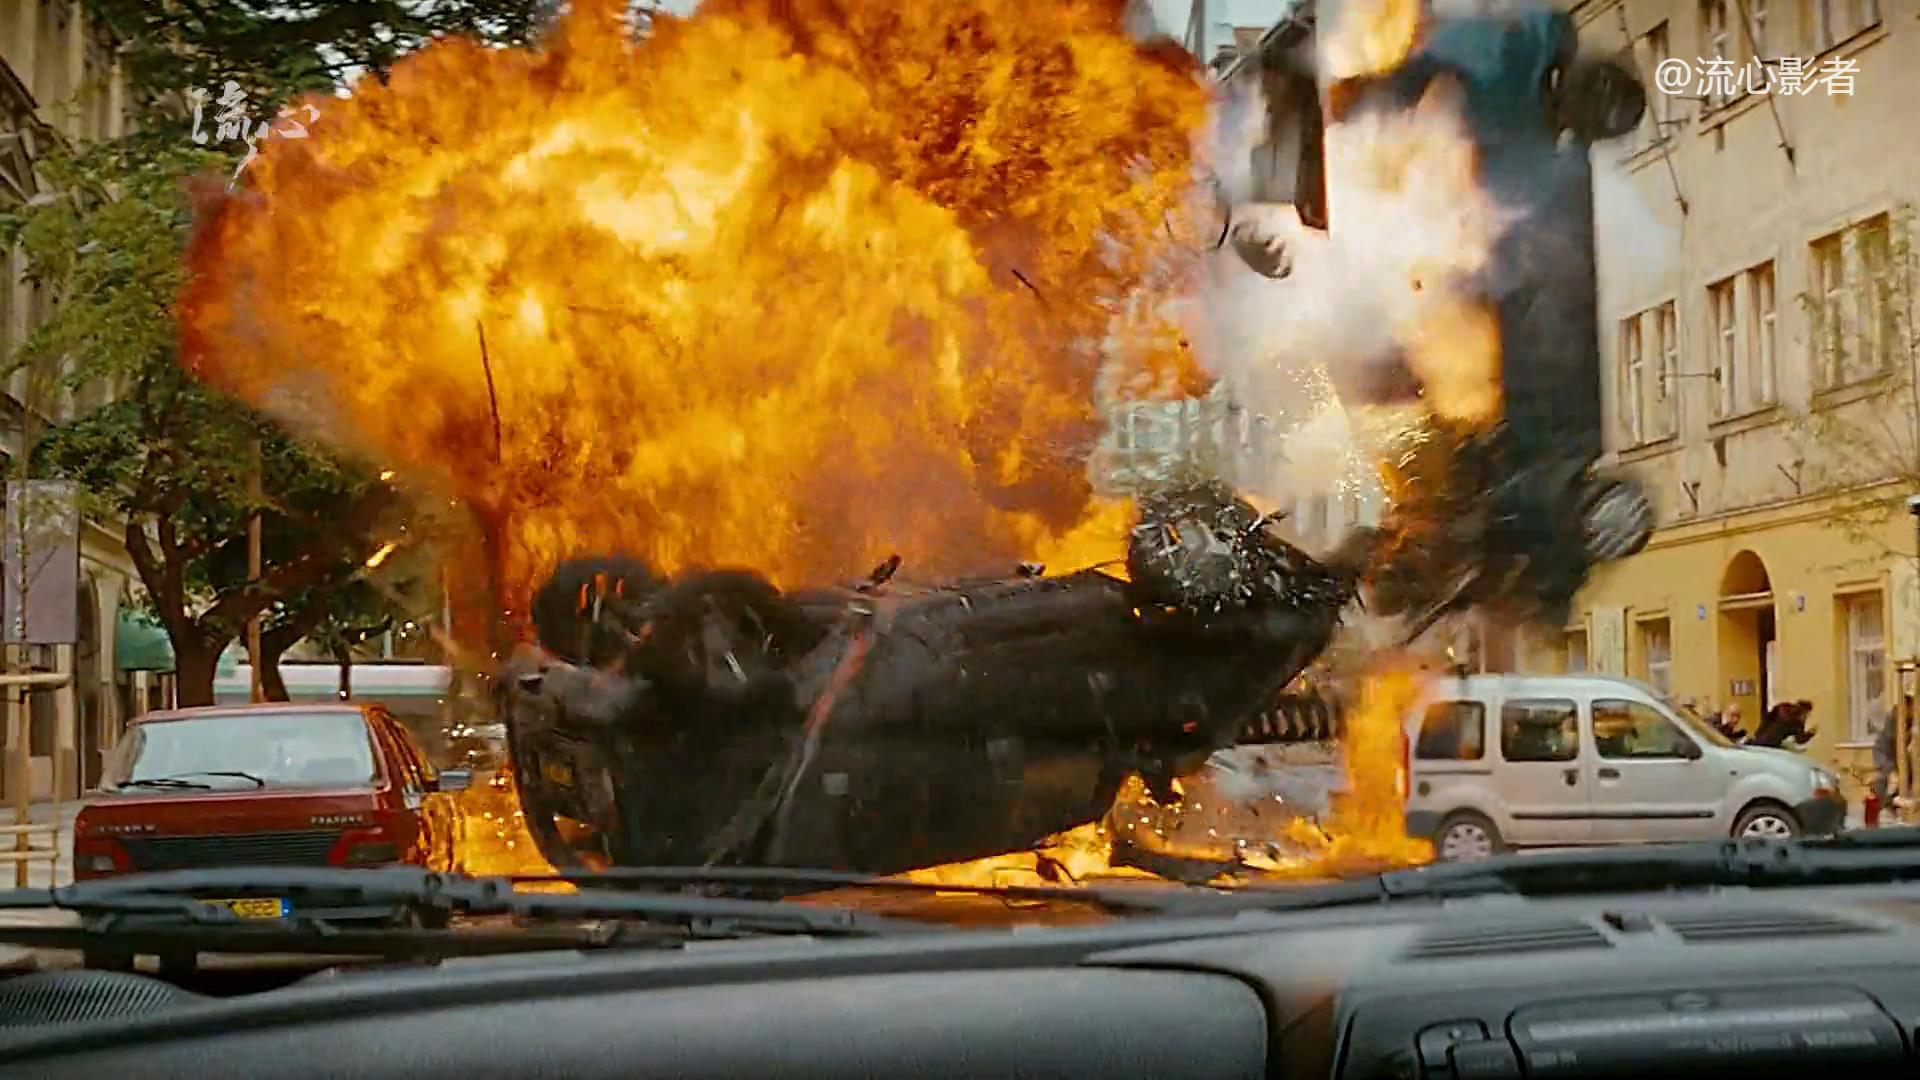fire: (182, 0, 1448, 897)
